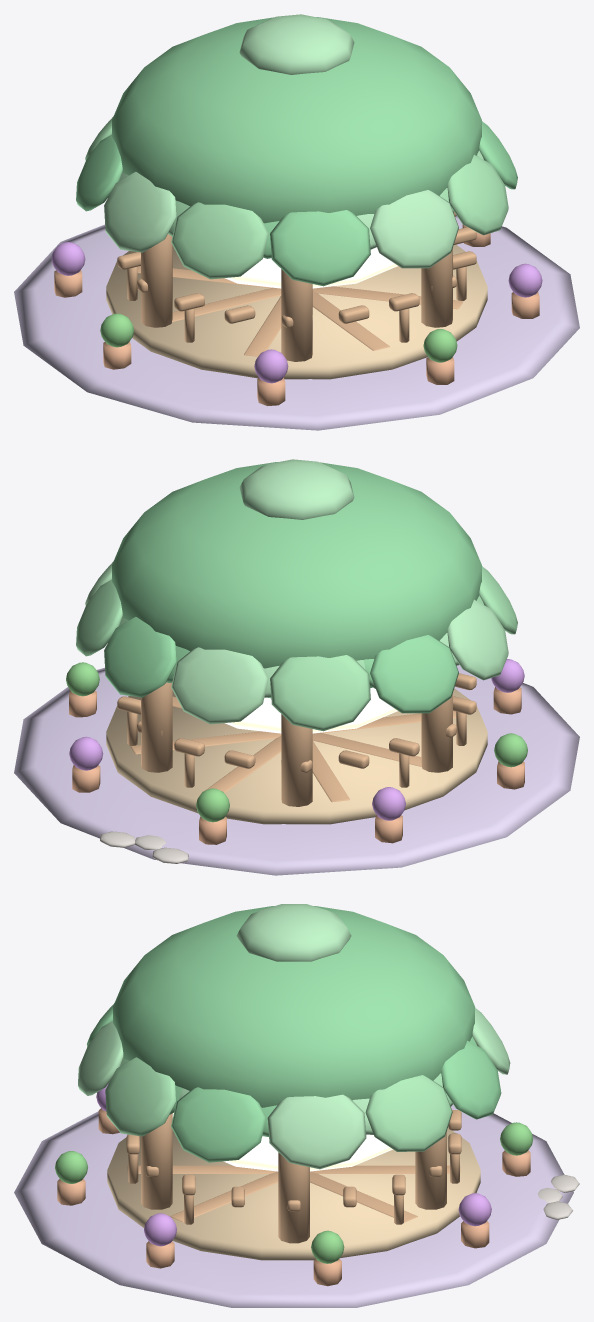
File: cozy_gazebo_A.glb
3 views of the same model, one above another, from view 1: azimuth 30°, elevation 25°; view 2: azimuth 150°, elevation 25°; view 3: azimuth 270°, elevation 25° (orthographic). The views are drawn at different scales.
Visible parts, largest first — view 1: DomeCore, Pad, Floor, Petal5_8, Petal5_7, Cap, Petal5_9, Petal5_6, Petal5_10, Post3, Post4, Petal5_5 (+17 smaller); view 2: DomeCore, Pad, Floor, Petal5_4, Petal5_3, Cap, Petal5_5, Petal5_2, Petal5_6, Post1, Post2, Petal5_1 (+20 smaller); view 3: DomeCore, Pad, Floor, Petal5_0, Petal5_11, Cap, Petal5_1, Petal5_10, Petal5_2, Post5, Post0, Petal5_9 (+17 smaller).
Boxes of the visible parts, box(x1,y1,x2,y2) form: DomeCore: box(112, 17, 481, 223); Pad: box(14, 215, 579, 430); Floor: box(106, 244, 487, 379); Petal5_8: box(270, 210, 370, 286); Petal5_7: box(171, 202, 268, 279); Cap: box(239, 14, 354, 74); Petal5_9: box(370, 190, 458, 268); Petal5_6: box(104, 172, 176, 252); Petal5_10: box(447, 154, 508, 235); Post3: box(141, 234, 172, 327); Post4: box(281, 269, 312, 361); Petal5_5: box(76, 134, 122, 211); DomeCore: box(112, 462, 481, 698); Pad: box(14, 665, 579, 875); Floor: box(106, 688, 487, 824); Petal5_4: box(270, 655, 370, 731); Petal5_3: box(171, 647, 268, 724); Cap: box(239, 459, 354, 519); Petal5_5: box(370, 635, 458, 713); Petal5_2: box(104, 617, 176, 697); Petal5_6: box(447, 599, 508, 680); Post1: box(141, 682, 172, 772); Post2: box(281, 714, 312, 806); Petal5_1: box(76, 579, 122, 656); DomeCore: box(113, 906, 474, 1136); Pad: box(14, 1104, 573, 1307); Floor: box(107, 1127, 480, 1260); Petal5_0: box(267, 1094, 366, 1169); Petal5_11: box(171, 1087, 266, 1162); Cap: box(236, 904, 351, 961); Petal5_1: box(365, 1075, 452, 1151); Petal5_10: box(105, 1057, 175, 1136); Petal5_2: box(441, 1040, 501, 1119); Post5: box(141, 1113, 172, 1209); Post0: box(278, 1152, 309, 1243); Petal5_9: box(78, 1021, 123, 1095).
Bounding box in the file's own units: 3.28 × 1.93 × 3.39.
